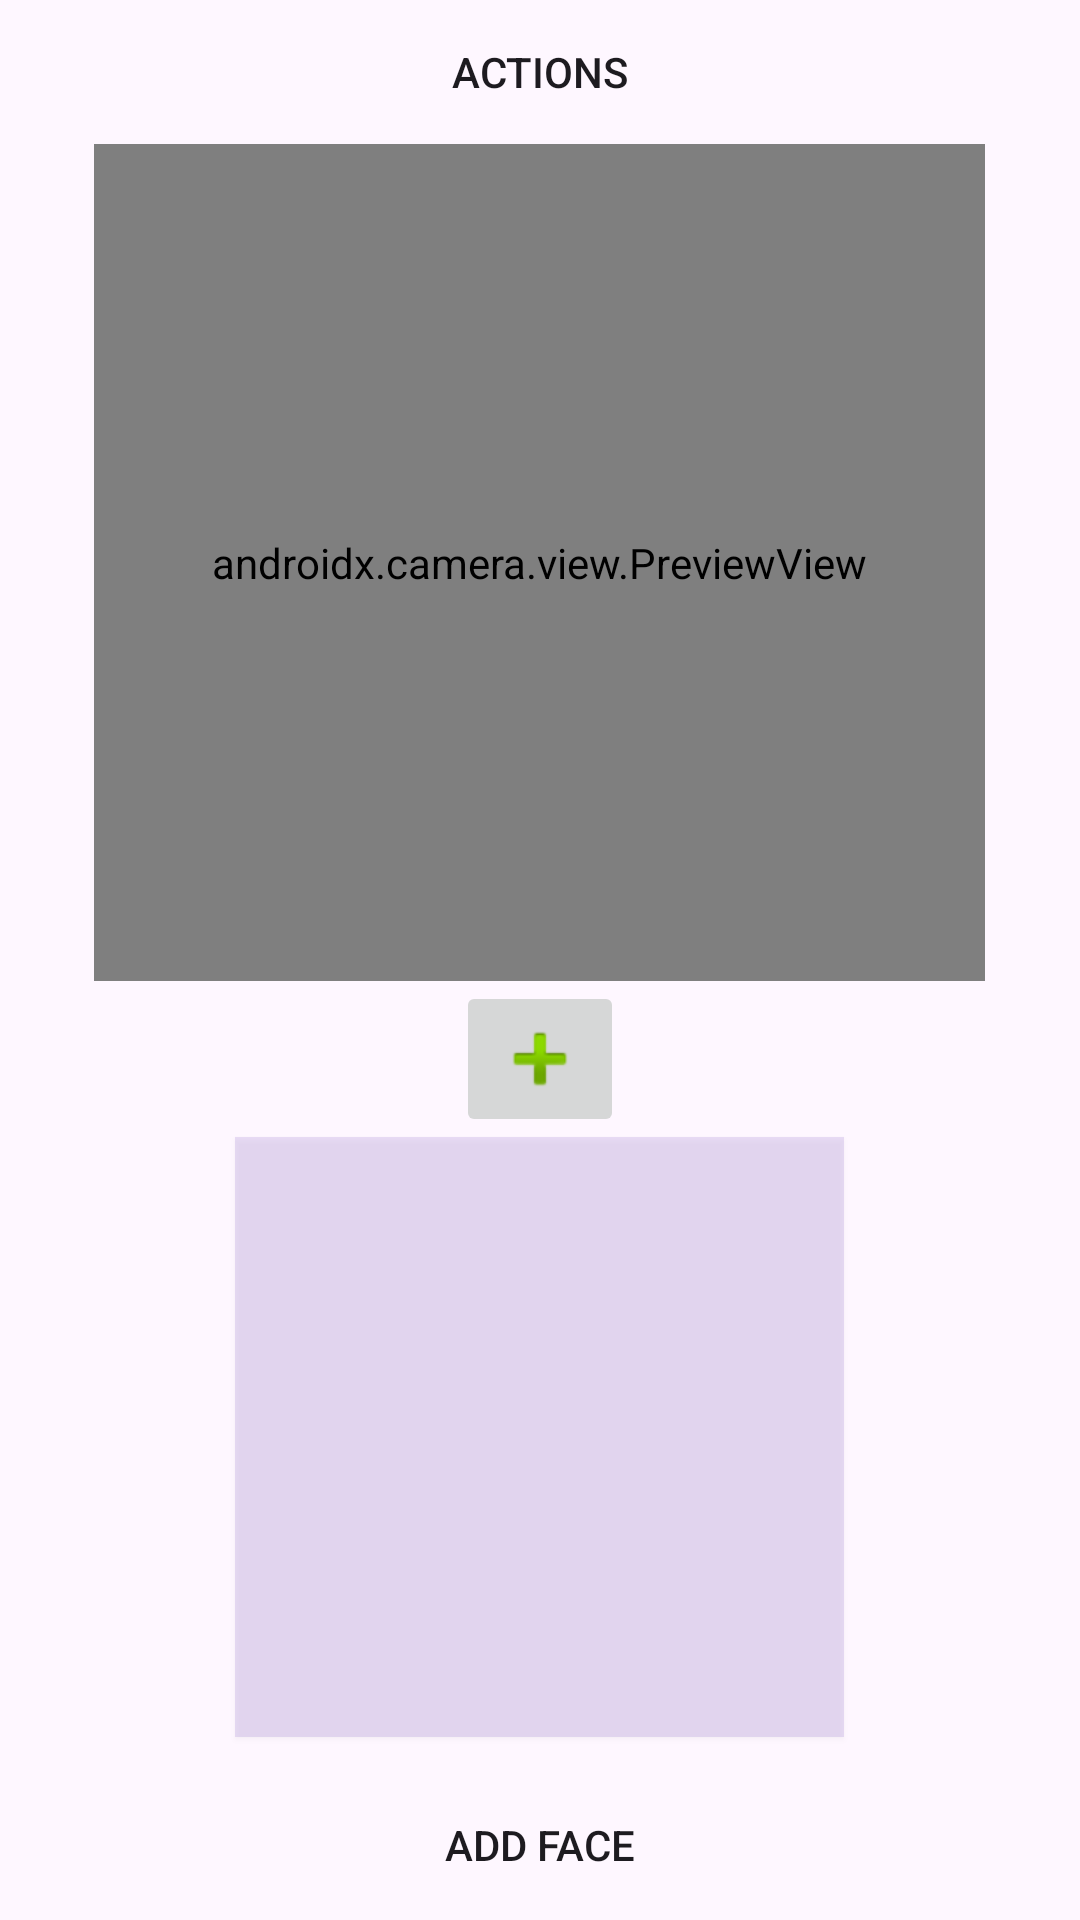

Screen size 1080px x 1920px. Icon name, then its center in pixels as point (x, y):
add: point (540, 1059)
